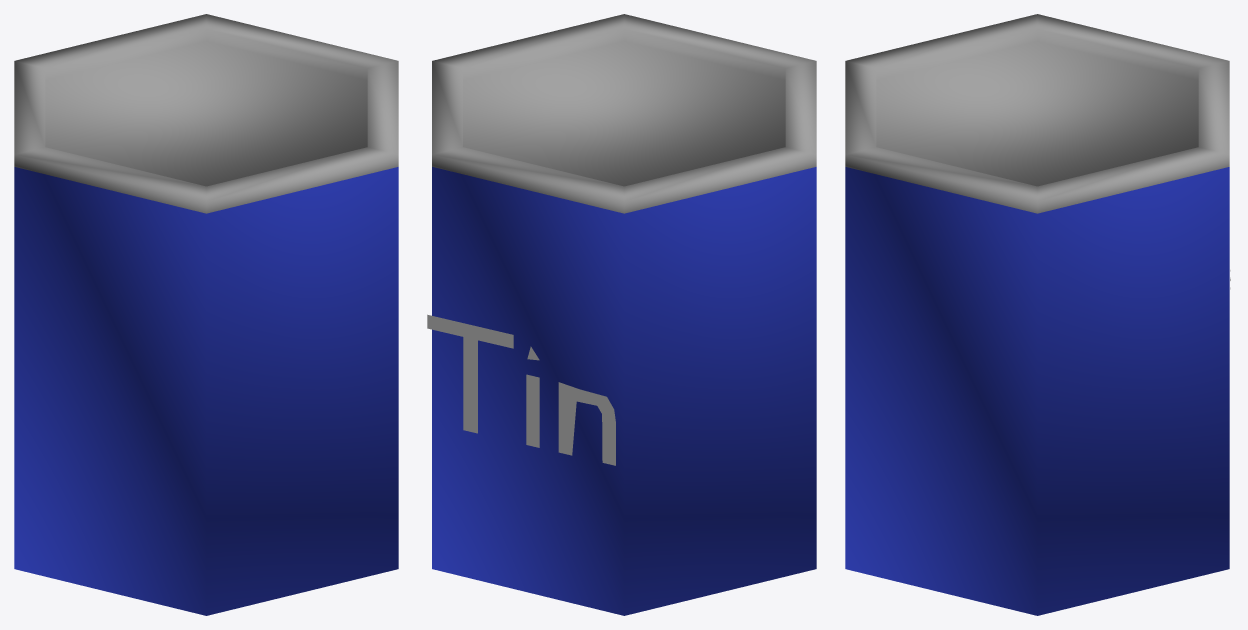
Rendered from Item_Tin.glb.
The picture shows the model from 3 angles, left to right: view 1: azimuth 30°, elevation 25°; view 2: azimuth 150°, elevation 25°; view 3: azimuth 270°, elevation 25°; orthographic projection.
Visible parts, largest first — view 1: Item_Tin; view 2: Item_Tin; view 3: Item_Tin.
Boxes of the visible parts, left/top/right/bottom form: Item_Tin: left=14, top=14, right=398, bottom=615; Item_Tin: left=427, top=14, right=816, bottom=615; Item_Tin: left=845, top=14, right=1230, bottom=615.
Size of the model in its own units: 0.4902 by 0.5049 by 0.4289.
